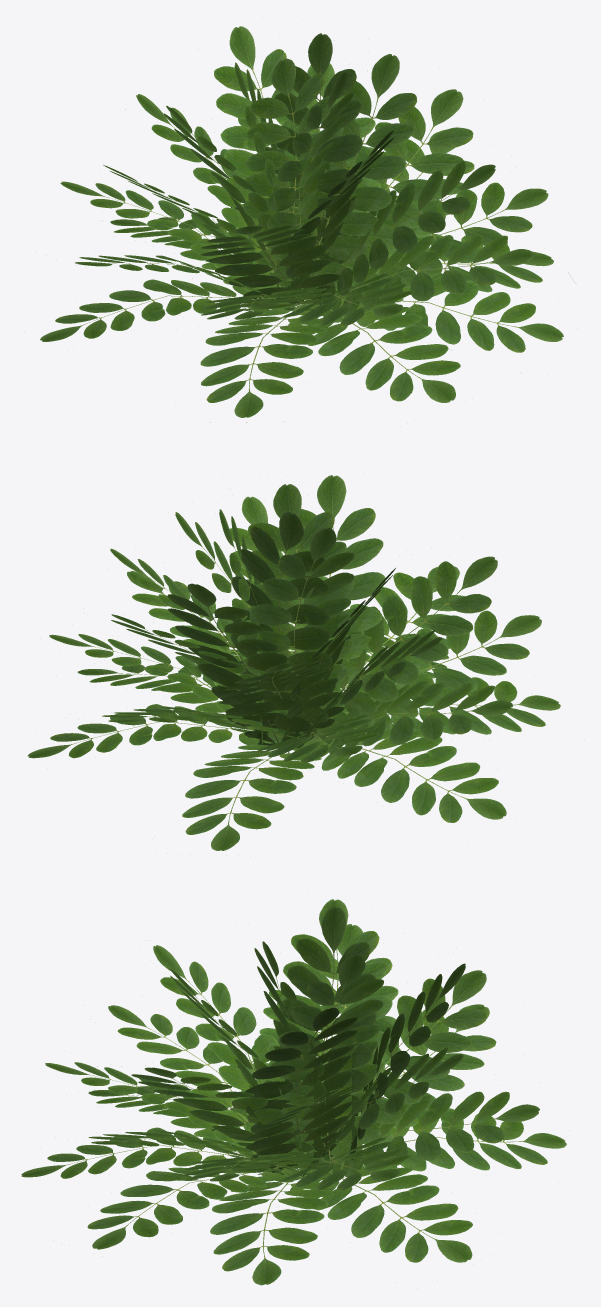
Rendered from bush7.FBX.
The picture shows the model from 3 angles, top to bottom: view 1: azimuth 30°, elevation 25°; view 2: azimuth 150°, elevation 25°; view 3: azimuth 270°, elevation 25°; orthographic projection.
Visible parts, largest first — view 1: bush7; view 2: bush7; view 3: bush7.
Part boxes in pixels (x1,y1,x2,y2): bush7: (40, 26, 563, 422); bush7: (27, 475, 560, 850); bush7: (21, 899, 566, 1285).
Size of the model in its own units: 6.24 by 3.19 by 6.15.
